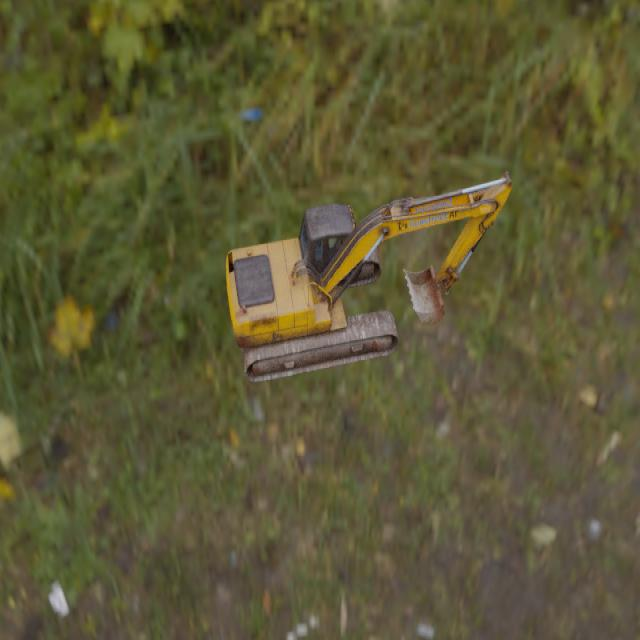excavator: (225, 169, 513, 383)
